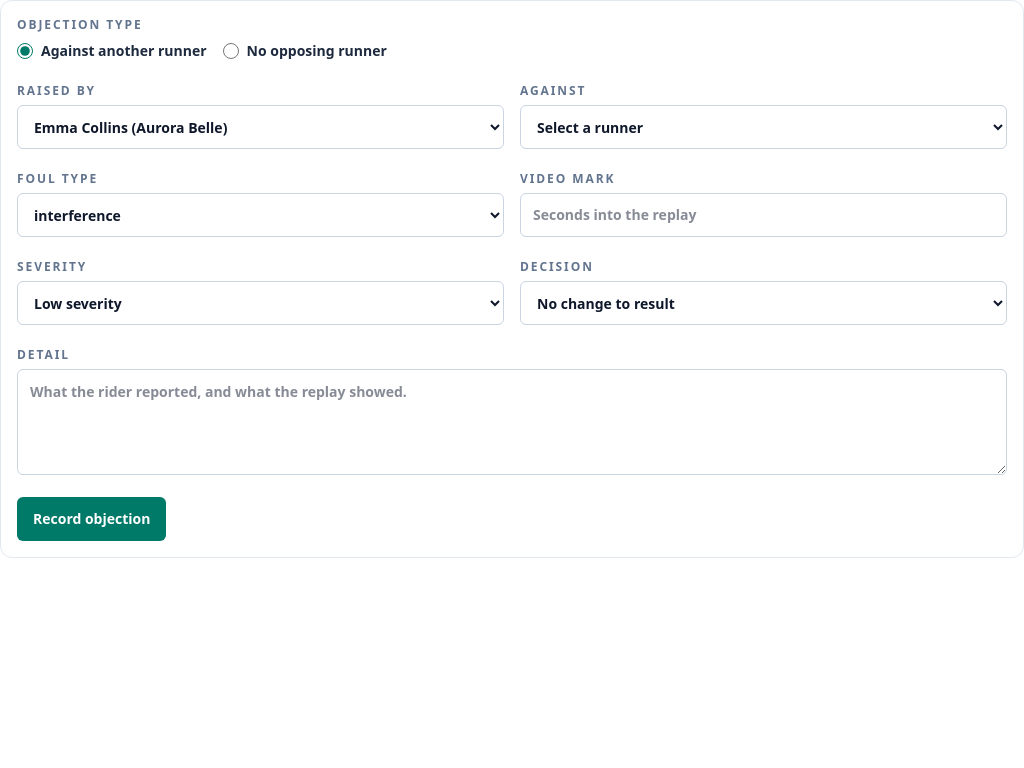
ObjectionForm › requires a detail before recording
Select "Liam Carter (Midnight Sovereign)" in the dropdown labelled "Against" at (764, 127), box [520,105,1007,149]
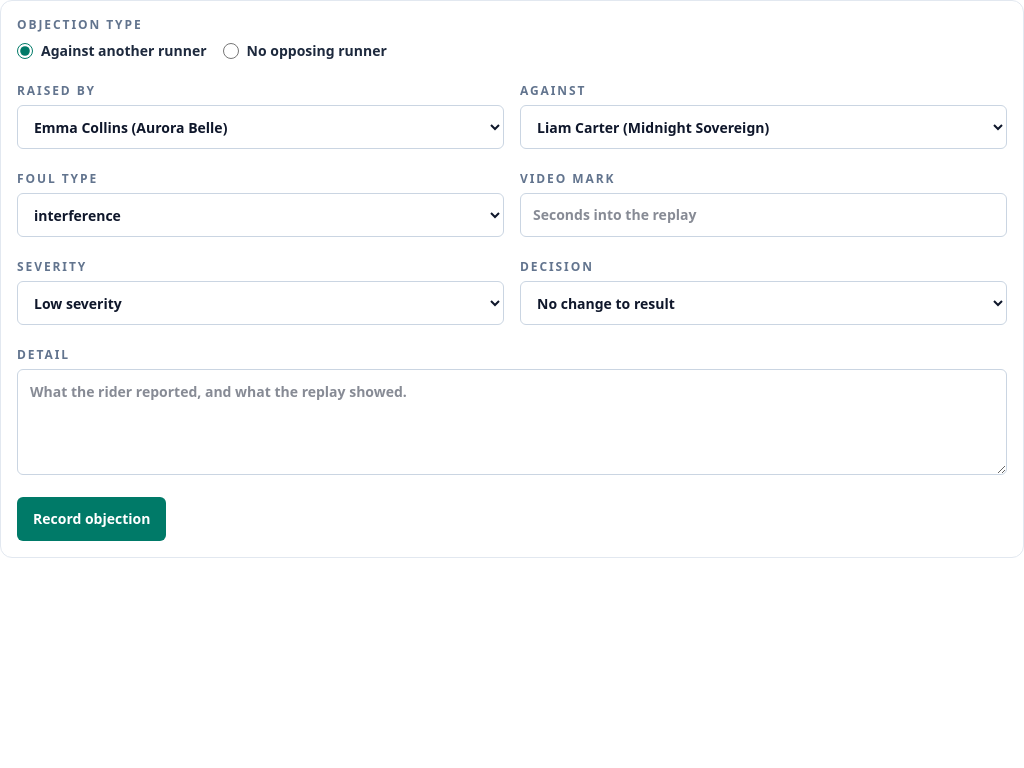
Click the button "Record objection" at (92, 519), box [17,497,166,541]
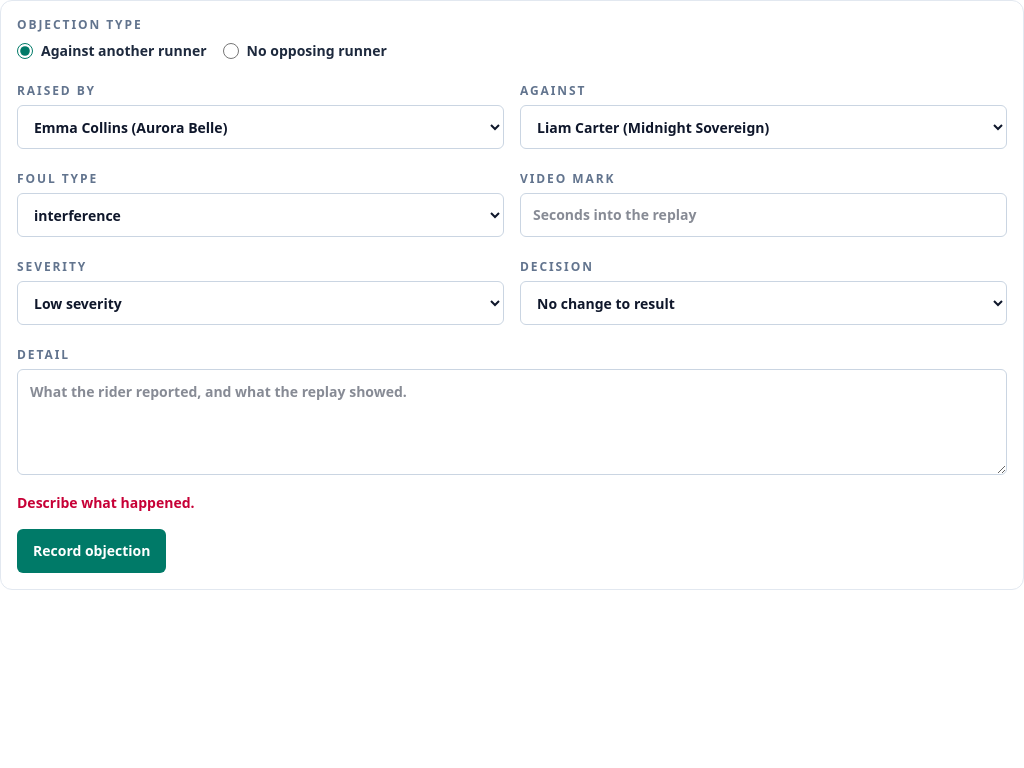
Now the message reads "Describe what happened.", box [17,493,194,512]
